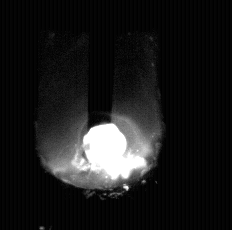arame: (88, 0, 113, 130)
poca: (36, 0, 163, 230)
